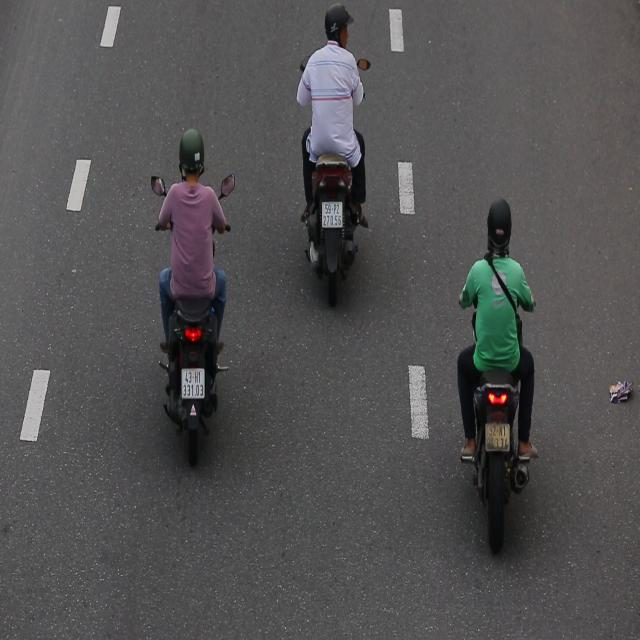motorbike: (452, 189, 544, 565), (147, 129, 238, 464), (291, 0, 368, 291)
